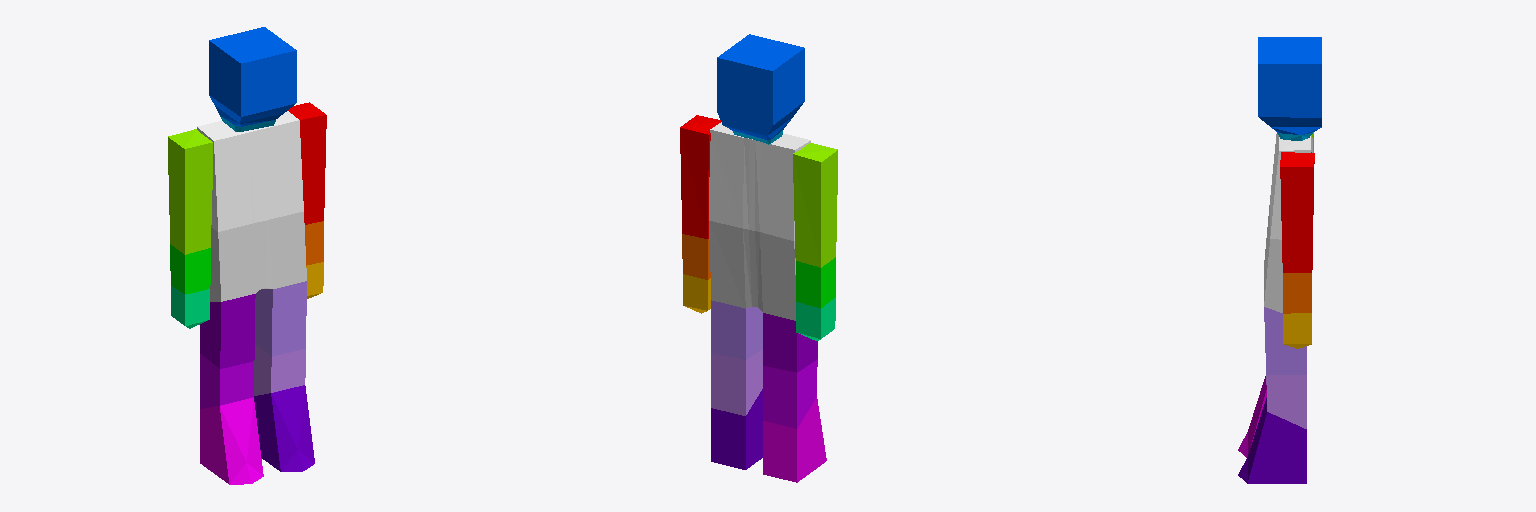
3 renders of one model, left to right at view 1: azimuth 30°, elevation 25°; view 2: azimuth 150°, elevation 25°; view 3: azimuth 270°, elevation 25°, orthographic.
Parts seen in each view (by area): view 1: Chest, Foot, Forearm, Head, Upper Leg, Lower Body, Knee, Arm, Hand; view 2: Forearm, Chest, Head, Lower Body, Foot, Knee, Upper Leg, Arm, Hand; view 3: Head, Foot, Forearm, Knee, Upper Leg, Lower Body, Chest, Arm, Hand.
Boxes of the visible parts, <box> form: Chest: <box>197,111,303,231</box>; Foot: <box>200,385,314,484</box>; Forearm: <box>168,102,326,254</box>; Head: <box>209,27,296,126</box>; Upper Leg: <box>200,281,306,368</box>; Lower Body: <box>210,212,306,301</box>; Knee: <box>200,344,305,408</box>; Arm: <box>170,221,323,294</box>; Hand: <box>171,262,323,328</box>; Forearm: <box>680,115,837,267</box>; Chest: <box>709,122,810,240</box>; Head: <box>717,34,804,139</box>; Lower Body: <box>709,221,795,320</box>; Foot: <box>711,389,826,482</box>; Knee: <box>711,349,817,428</box>; Upper Leg: <box>711,300,817,372</box>; Arm: <box>682,234,835,307</box>; Hand: <box>683,274,835,340</box>; Head: <box>1258,37,1321,134</box>; Foot: <box>1238,376,1306,483</box>; Forearm: <box>1280,132,1314,272</box>; Knee: <box>1266,375,1306,428</box>; Upper Leg: <box>1264,307,1306,374</box>; Lower Body: <box>1264,205,1282,312</box>; Chest: <box>1270,134,1312,239</box>; Arm: <box>1283,273,1311,313</box>; Hand: <box>1283,313,1311,348</box>.
Bounding box in the file's own units: 0.5168 × 1.44 × 0.2672.
1 materials, 1 textured.